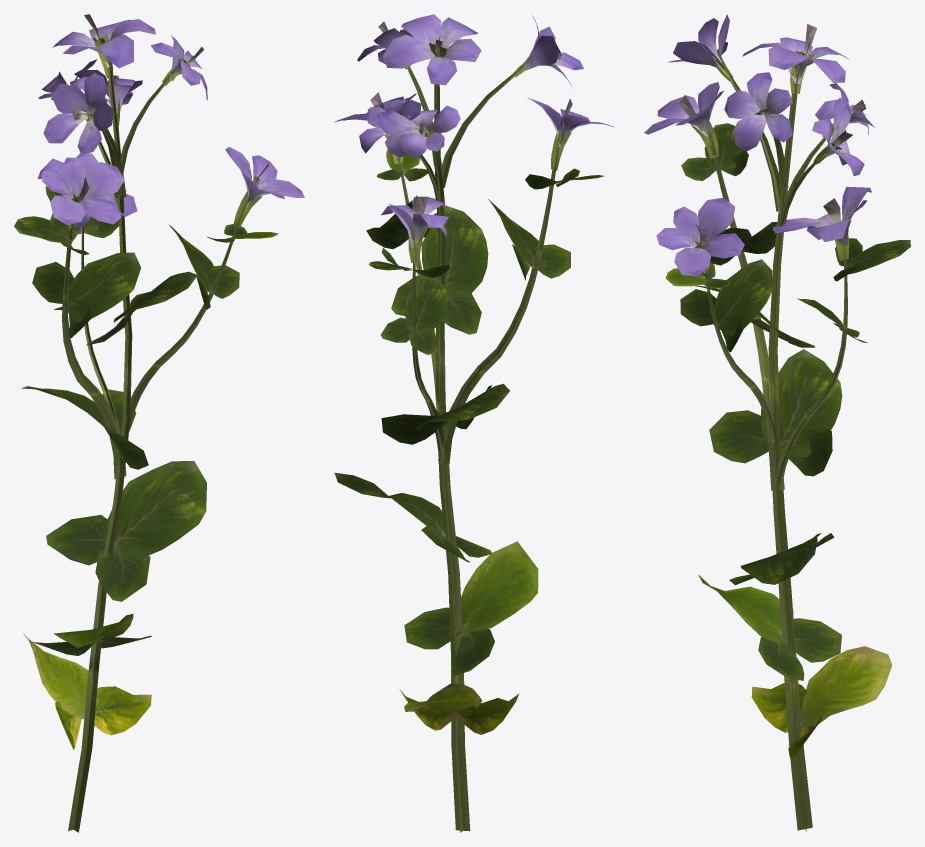
Rendered from Periwinkle_baby_short_purple.glb.
3 views of the same model, side by side, from view 1: azimuth 30°, elevation 25°; view 2: azimuth 150°, elevation 25°; view 3: azimuth 270°, elevation 25° (orthographic).
Visible parts, largest first — view 1: _b868_Var1_LOD1; view 2: _b868_Var1_LOD1; view 3: _b868_Var1_LOD1.
Part boxes in pixels (x1,y1,x2,y2): _b868_Var1_LOD1: [14, 14, 304, 832]; _b868_Var1_LOD1: [334, 14, 614, 832]; _b868_Var1_LOD1: [644, 14, 910, 832].
Size of the model in its own units: 0.5832 by 1.66 by 0.4917.
Materials: 1 (1 with a texture image).
